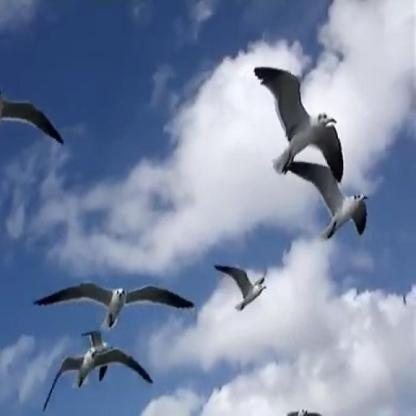bird: (253, 63, 353, 184), (291, 161, 383, 254), (33, 333, 143, 404), (38, 287, 198, 323), (222, 265, 273, 310)
